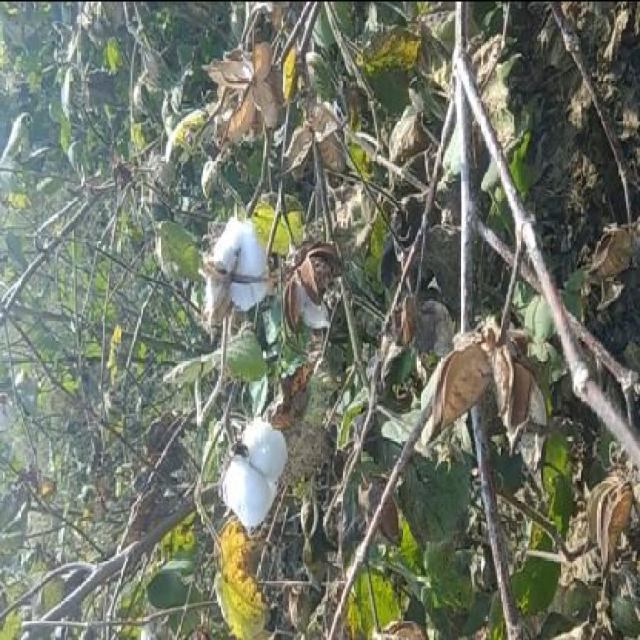cotton_ready: (222, 400, 298, 551), (197, 204, 280, 324)
